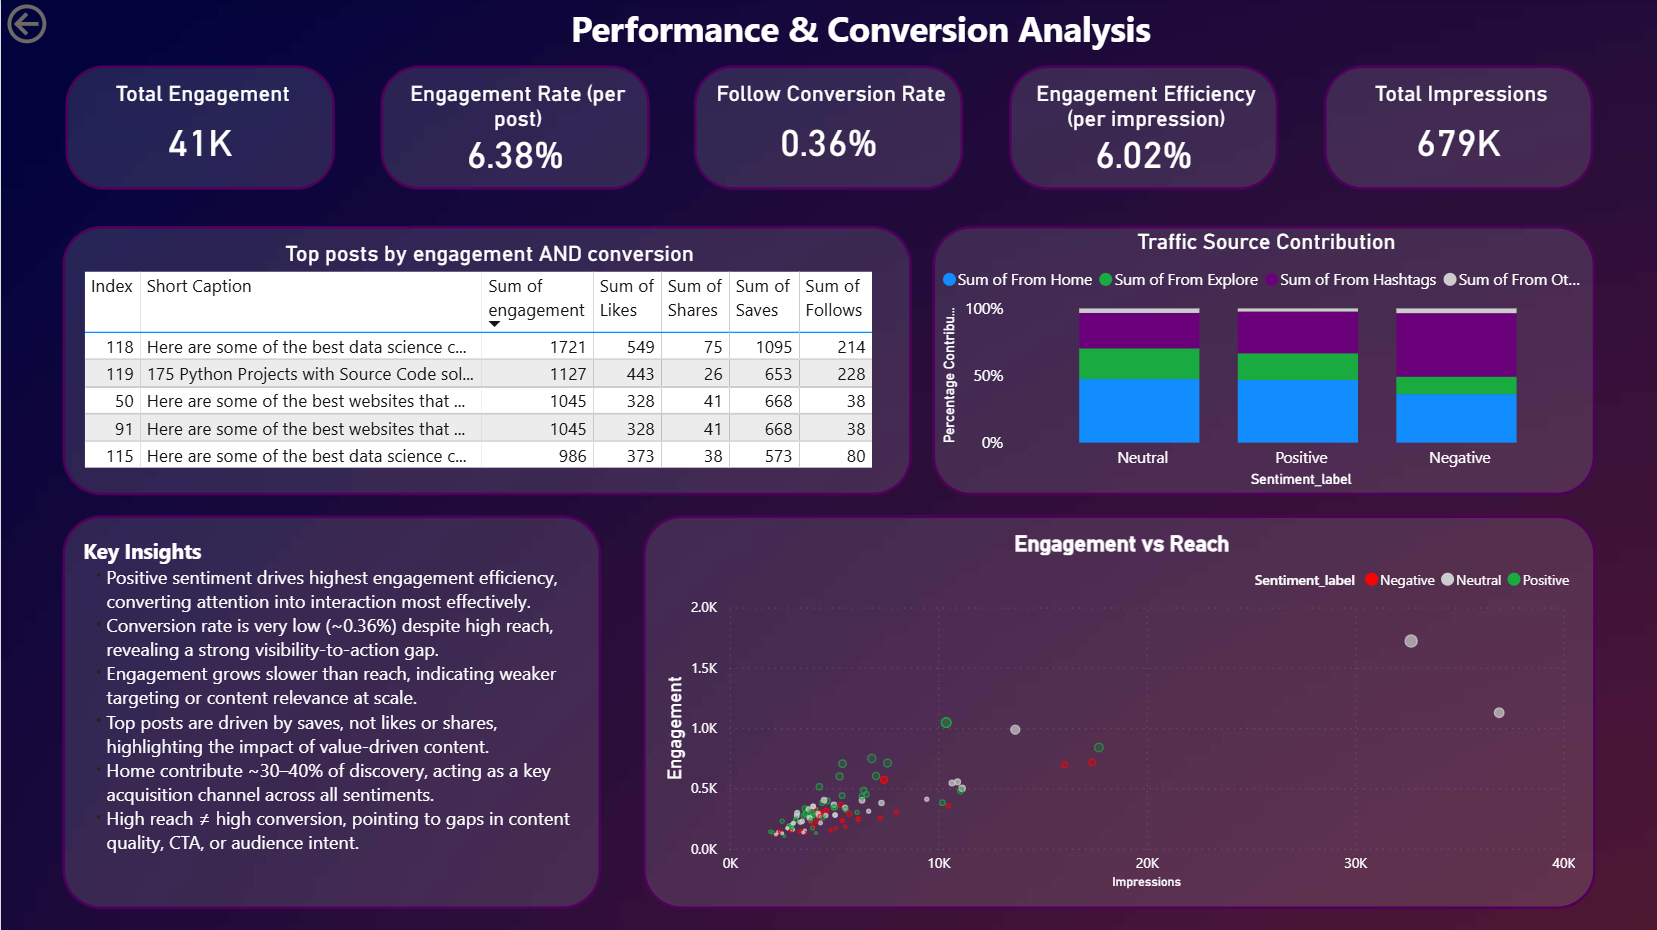

Layout of this report page (visuals, bound fields, positions):
{"tool":"powerbi","page":{"name":"EngagementInsights","canvas":[1280,720],"ordinal":1},"visuals":[{"type":"card","title":"Total Engagement","fields":{"Values":["Metric Selector.Total Engagement"]},"box":[49.8,52,208,96],"z":0},{"type":"card","title":"Engagement Rate (per post)","fields":{"Values":["Metric Selector.Avg Engagement Rate"]},"box":[292.7,52,208,96],"z":1000},{"type":"card","title":"Total Impressions","fields":{"Values":["Metric Selector.Total Impressions"]},"box":[1021.5,52,208,96],"z":2000},{"type":"card","title":"Engagement Efficiency (per impression)","fields":{"Values":["final_output.Engagement per Impression"]},"box":[778.5,52,208,96],"z":3000},{"type":"tableEx","title":"Top posts by engagement AND conversion","fields":{"Values":["final_output.Index","final_output.Short Caption","Sum(final_output.engagement)","Sum(final_output.Likes)","Sum(final_output.Shares)","Sum(final_output.Saves)","Sum(final_output.Follows)"]},"box":[48,176,656,208],"z":4000},{"type":"actionButton","box":[0,0,100,40],"z":5000},{"type":"scatterChart","title":"Engagement vs Reach","fields":{"X":["Sum(final_output.Impressions)"],"Size":["Sum(final_output.Saves)"],"Series":["final_output.sentiment_label"],"Y":["Sum(final_output.engagement)"],"Category":["final_output.Index"]},"box":[496,400,736,304],"z":6000},{"type":"hundredPercentStackedColumnChart","title":"Traffic Source Contribution","fields":{"Y":["Sum(final_output.From Home)","Sum(final_output.From Explore)","Sum(final_output.From Hashtags)","Sum(final_output.From Other)"],"Category":["final_output.sentiment_label"]},"box":[720,176,512,208],"z":7000},{"type":"card","title":"Follow Conversion Rate","fields":{"Values":["Metric Selector.Follow Rate"]},"box":[535.6,52,208,96],"z":8000},{"type":"textbox","title":"Performance & Conversion Analysis","box":[96,0,1136,64],"z":9000},{"type":"textbox","box":[48,400,416,304],"z":10000}]}

Visuals, with their boxes in screenshot pixels (x1, y1, x2, y2), scaled from the page's 1280x720 canvas onto the 1657x930 screenshot:
"Total Engagement" card: [left=64, top=67, right=334, bottom=191]
"Engagement Rate (per post)" card: [left=379, top=67, right=648, bottom=191]
"Total Impressions" card: [left=1322, top=67, right=1592, bottom=191]
"Engagement Efficiency (per impression)" card: [left=1008, top=67, right=1277, bottom=191]
"Top posts by engagement AND conversion" tableEx: [left=62, top=227, right=911, bottom=496]
actionButton: [left=0, top=0, right=129, bottom=52]
"Engagement vs Reach" scatterChart: [left=642, top=517, right=1595, bottom=909]
"Traffic Source Contribution" hundredPercentStackedColumnChart: [left=932, top=227, right=1595, bottom=496]
"Follow Conversion Rate" card: [left=693, top=67, right=963, bottom=191]
"Performance & Conversion Analysis" textbox: [left=124, top=0, right=1595, bottom=83]
textbox: [left=62, top=517, right=601, bottom=909]
